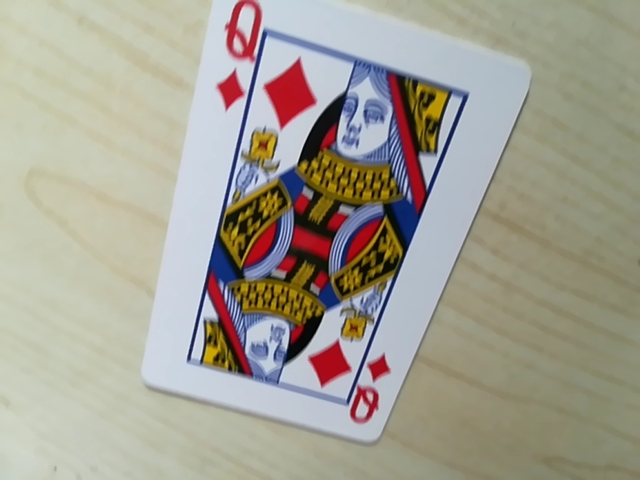fk q: (210, 0, 280, 106), (336, 370, 391, 432)
